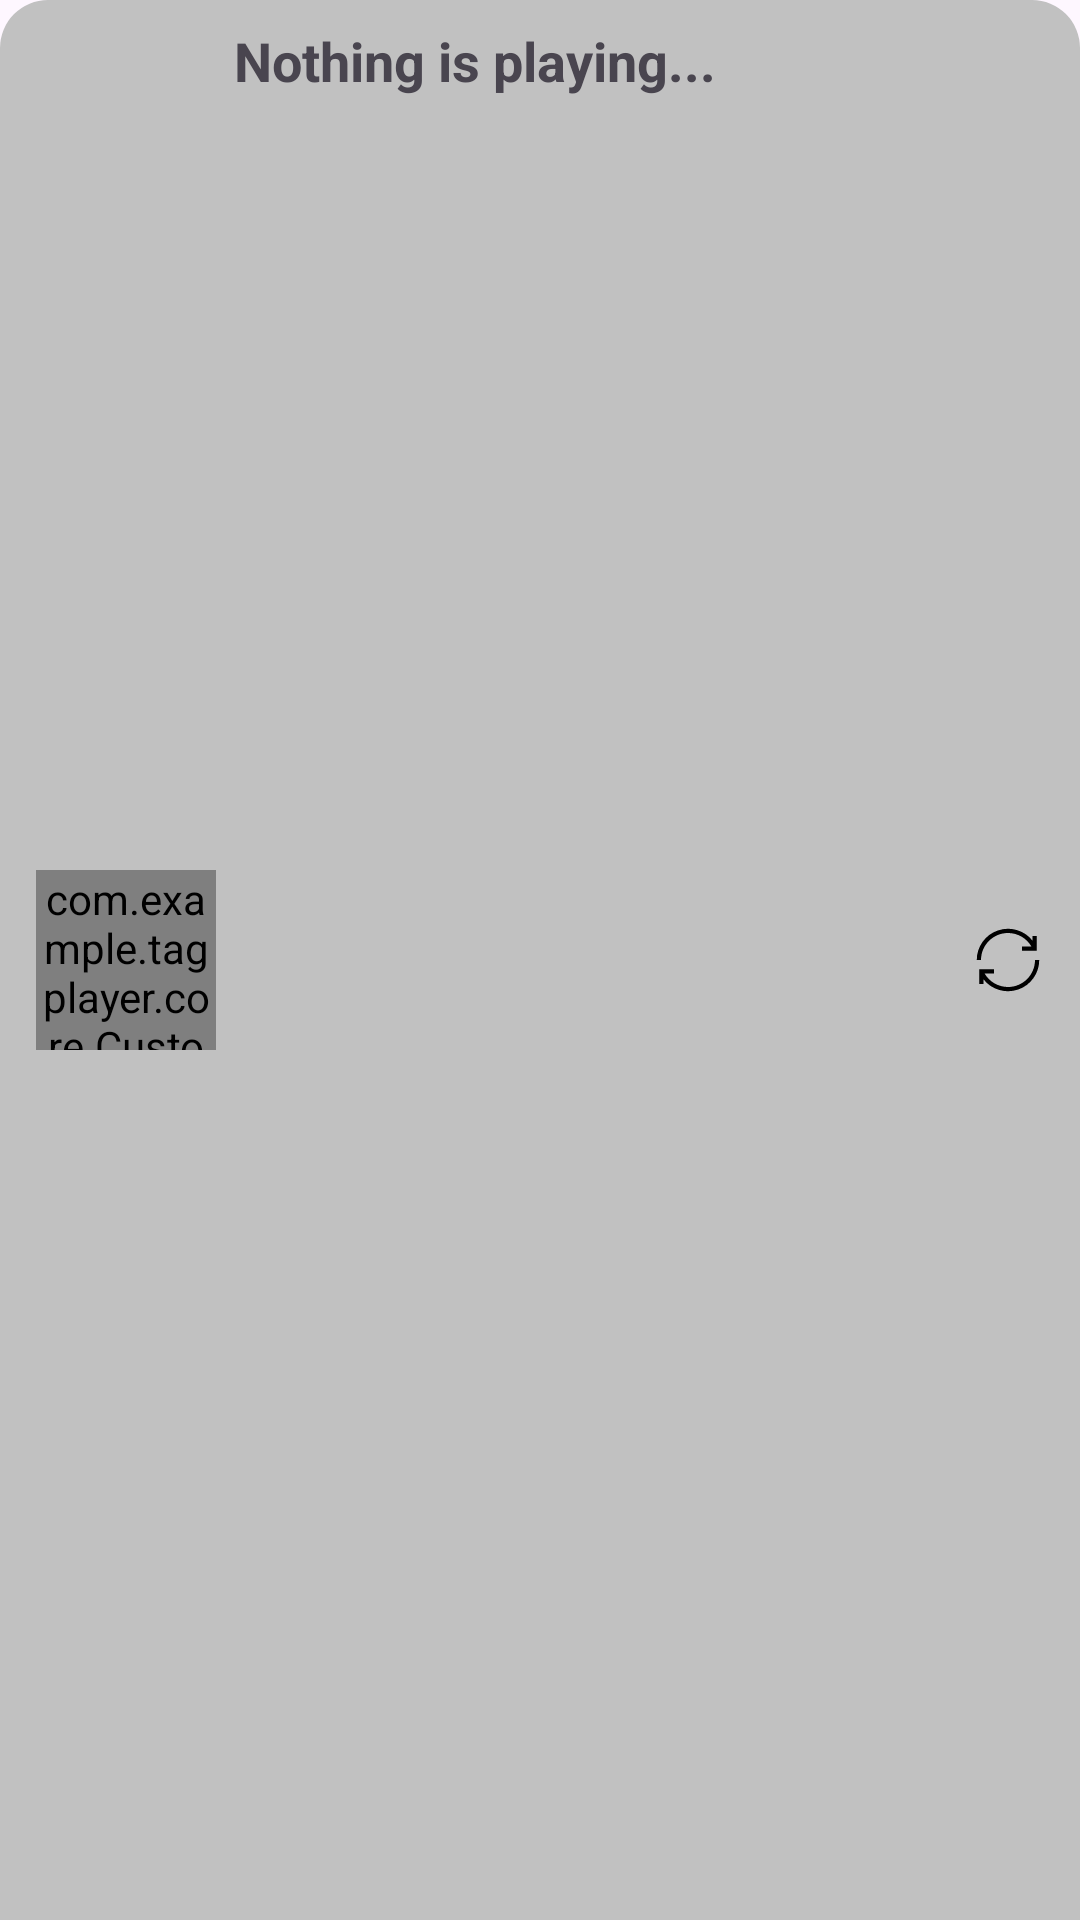

Where icons sit on this 1080px x 1920px app screen, as (x1, y1, x2, y2):
Restart current song: (976, 928, 1040, 992)
